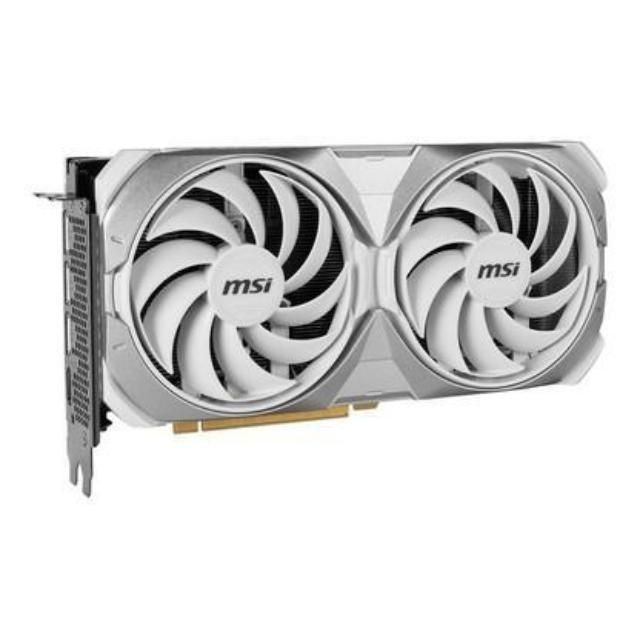GPU: (54, 138, 612, 442)
